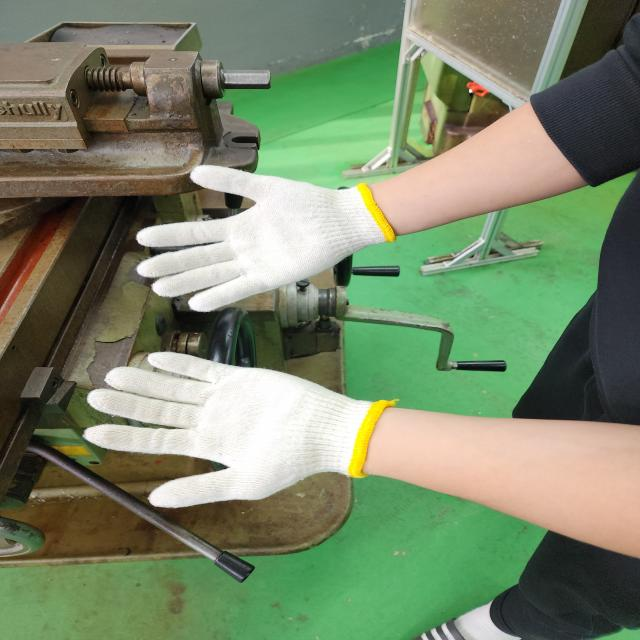Boots: (83, 351, 391, 506), (134, 162, 400, 312)
